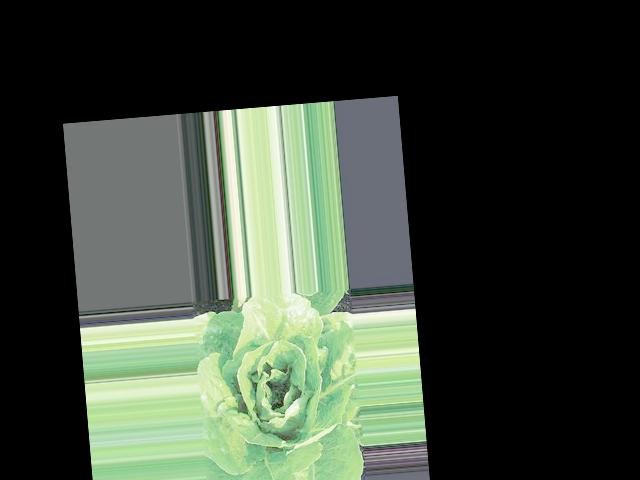lettuce: (306, 327, 391, 448)
